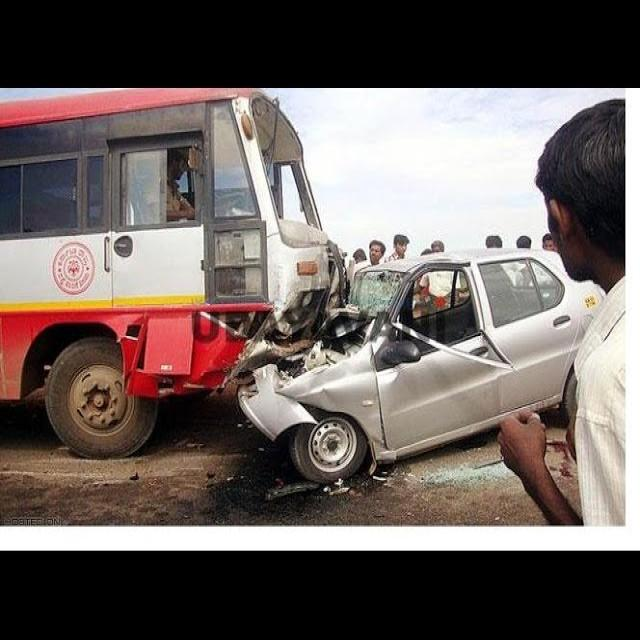accident: (0, 88, 345, 457), (239, 252, 599, 483)
